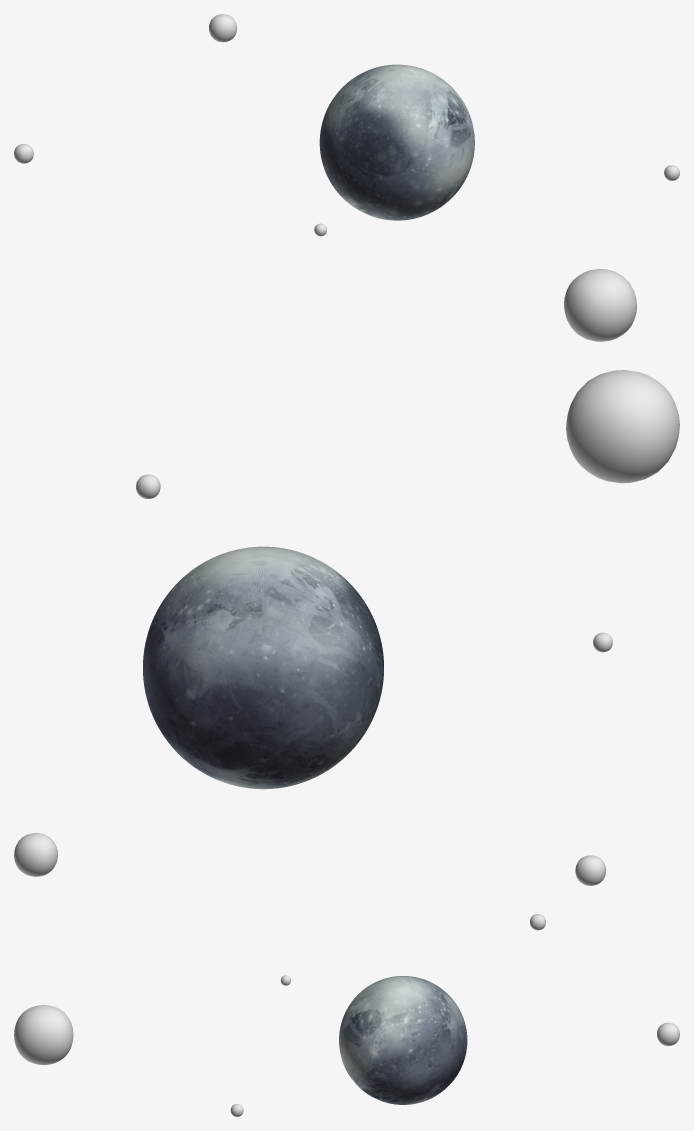
Rendered from pluto.glb.
3 views of the same model, one above another, from view 1: azimuth 30°, elevation 25°; view 2: azimuth 150°, elevation 25°; view 3: azimuth 270°, elevation 25° (orthographic). The views are drawn at different scales.
Visible parts, largest first — view 1: Pluto, Cube.203, Cube.204; view 2: Pluto, Cube.203, Cube.204, Cube.205; view 3: Pluto, Cube.203, Cube.204.
Boxes of the visible parts, box(x1,y1,x2,y2) form: Pluto: box(319, 64, 474, 220); Cube.203: box(564, 269, 636, 341); Cube.204: box(209, 14, 237, 42); Pluto: box(143, 546, 383, 789); Cube.203: box(566, 370, 679, 483); Cube.204: box(14, 833, 57, 876); Cube.205: box(575, 855, 606, 885); Pluto: box(339, 976, 467, 1104); Cube.203: box(14, 1005, 73, 1065); Cube.204: box(657, 1022, 679, 1045).
Bounding box in the file's own units: 16.77 × 4.73 × 24.27.
2 materials, 1 textured.
